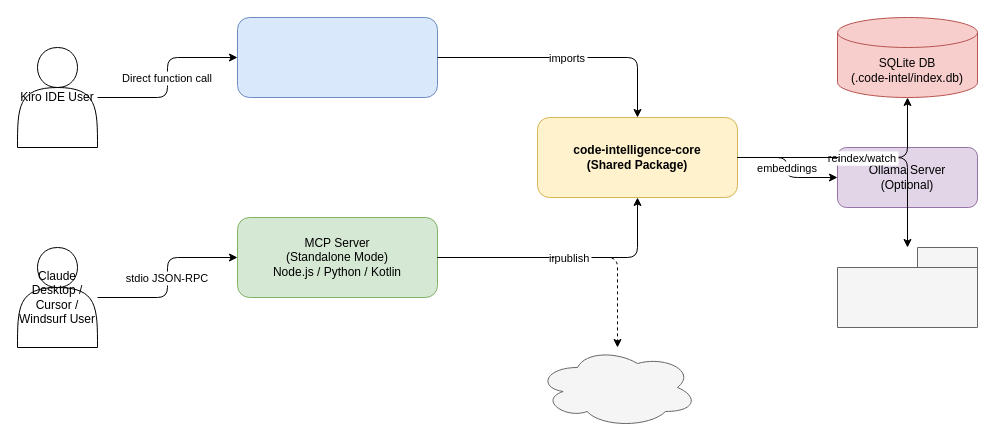
This 995x445 diagram has some shape labels left out. The centre of each missing label's shape, as x and y in pixels:
"File System (Workspace)" belongs at point (907, 287).
"kiro-sdlc-agents Extension (In-Process Mode)" belongs at point (337, 57).
"npm / PyPI / GitHub Releases" belongs at point (617, 387).
